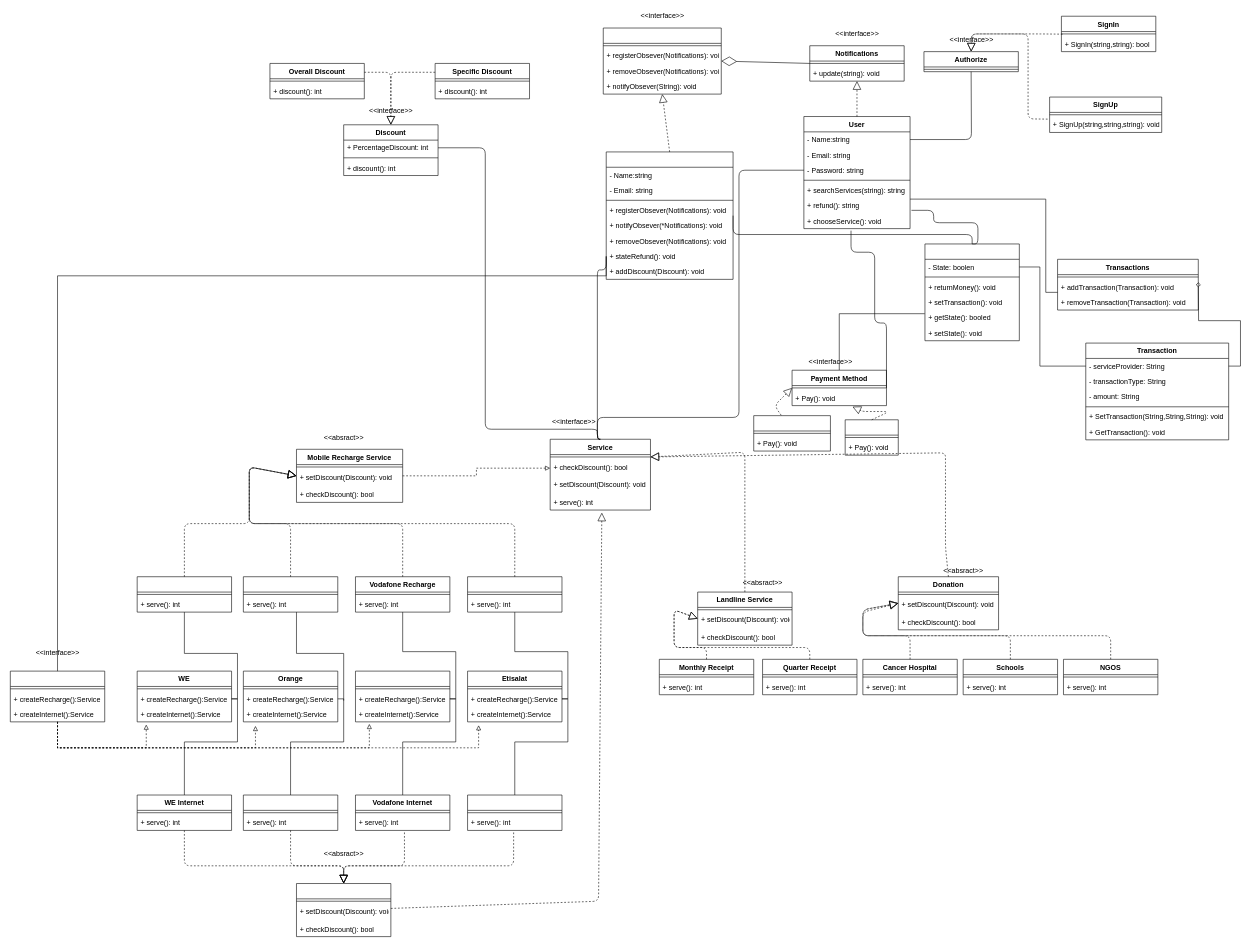
Image size: 1256x948. Some labels were removed from this diagram. The box of each missing label's shape, as (x1, y1, x2, y2) in pixels:
Admin: (606, 151, 733, 279)
Credit Card: (753, 415, 830, 451)
Etisalat Internet: (467, 794, 562, 830)
Etisalat Recharge: (467, 576, 562, 612)
Internet Payment Service: (296, 883, 391, 937)
Notifiers: (603, 27, 721, 94)
Orange Internet: (243, 794, 338, 830)
Orange Recharge: (243, 576, 338, 612)
Refund: (924, 243, 1019, 341)
ServiceProvider: (10, 671, 105, 722)
Vodafone: (355, 671, 450, 722)
Wallet: (845, 419, 898, 455)
WE Recharge: (137, 576, 232, 612)
